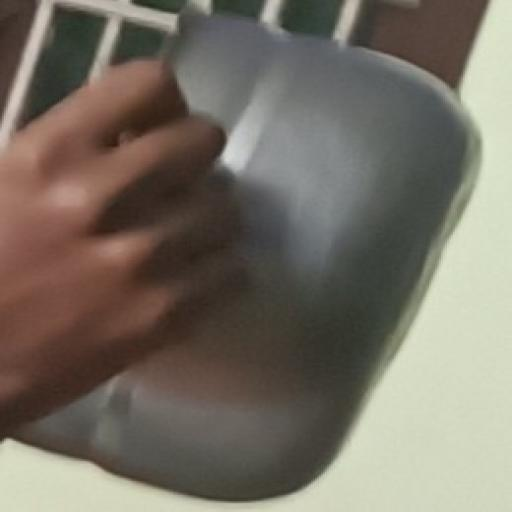vessel: (20, 15, 477, 498)
